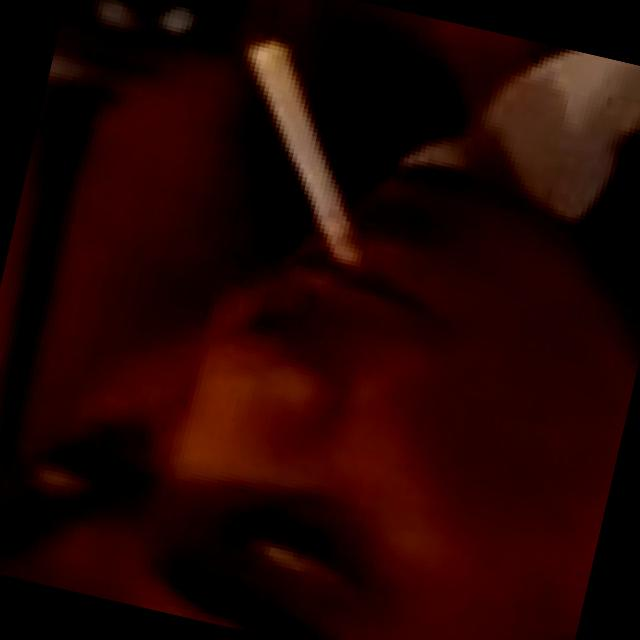cigarette: (189, 11, 424, 278)
